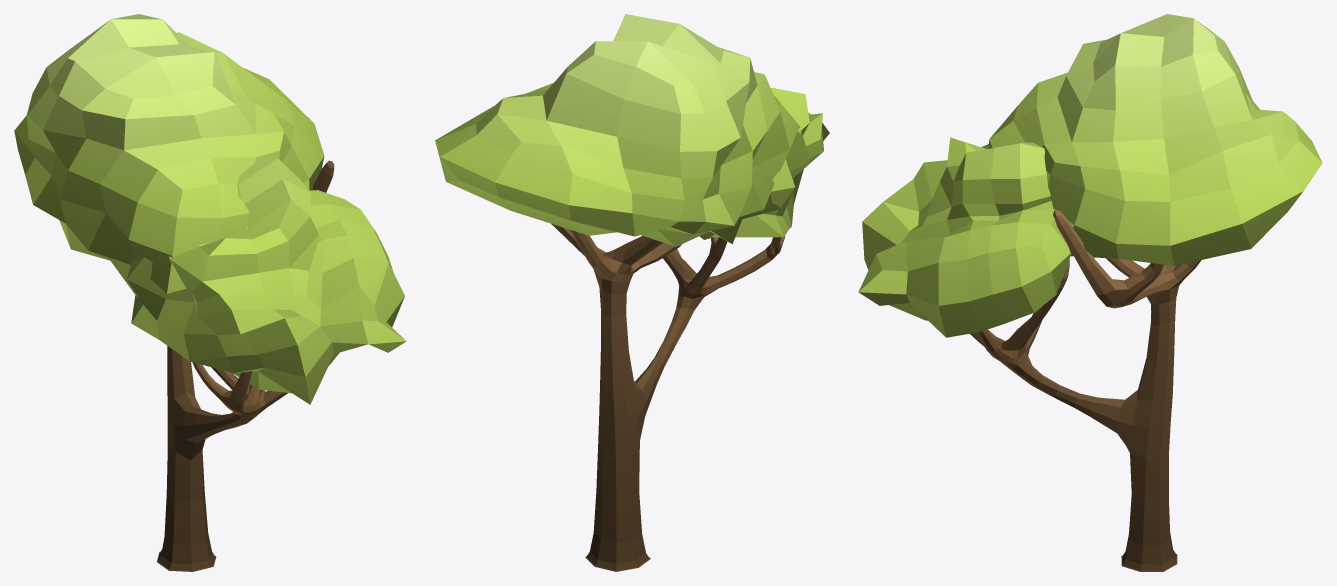
File: CommonTree2.fbx
3 renders of one model, left to right at view 1: azimuth 30°, elevation 25°; view 2: azimuth 150°, elevation 25°; view 3: azimuth 270°, elevation 25°, orthographic. The views are drawn at different scales.
Parts seen in each view (by area): view 1: CommonTree_2_Cube.001, CommonTree_2_Cube.036; view 2: CommonTree_2_Cube.001, CommonTree_2_Cube.036; view 3: CommonTree_2_Cube.001, CommonTree_2_Cube.036.
Boxes of the visible parts, left/top/right/bottom form: CommonTree_2_Cube.001: left=14, top=14, right=406, bottom=404; CommonTree_2_Cube.036: left=157, top=160, right=334, bottom=571; CommonTree_2_Cube.001: left=435, top=14, right=829, bottom=246; CommonTree_2_Cube.036: left=551, top=223, right=784, bottom=571; CommonTree_2_Cube.001: left=858, top=14, right=1322, bottom=337; CommonTree_2_Cube.036: left=970, top=209, right=1201, bottom=571.
Size of the model in its own units: 166 by 312 by 254.
